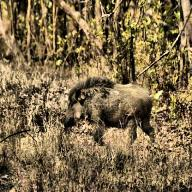boar: (56, 67, 172, 154)
